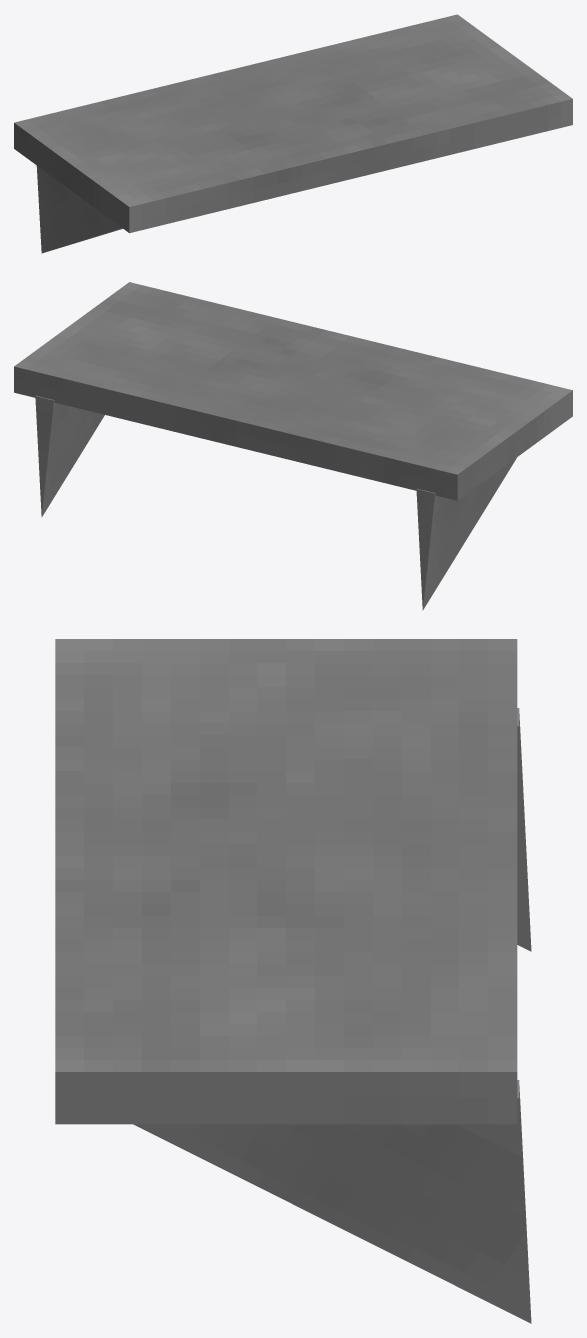
Rendered from shelf.gltf.
3 renders of one model, top to bottom at view 1: azimuth 30°, elevation 25°; view 2: azimuth 150°, elevation 25°; view 3: azimuth 270°, elevation 25°, orthographic. The views are drawn at different scales.
Visible parts, largest first — view 1: mesh, pyramid; view 2: mesh, pyramid (×2); view 3: mesh, pyramid (×2).
Part boxes in pixels (left/top/right/bottom): mesh: left=14, top=14, right=572, bottom=233; pyramid: left=36, top=166, right=122, bottom=253; mesh: left=14, top=282, right=572, bottom=500; pyramid (×2): left=35, top=395, right=516, bottom=610; mesh: left=55, top=639, right=517, bottom=1124; pyramid (×2): left=133, top=708, right=531, bottom=1323.
Size of the model in its own units: 2.22 by 0.6749 by 1.03.
3 materials, 3 textured.
